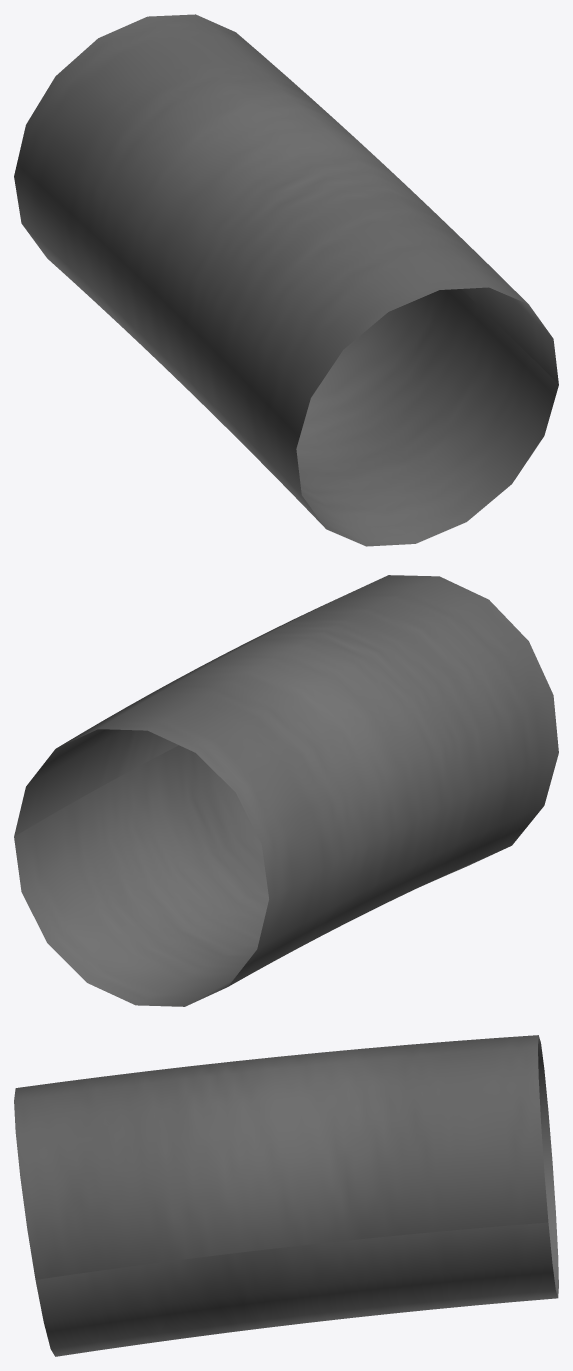
The model's file is mastarmcurve_5x1_c4.obj.
3 renders of one model, top to bottom at view 1: azimuth 30°, elevation 25°; view 2: azimuth 150°, elevation 25°; view 3: azimuth 270°, elevation 25°, orthographic. The views are drawn at different scales.
Visible parts, largest first — view 1: mastarm_5x1_c4; view 2: mastarm_5x1_c4; view 3: mastarm_5x1_c4.
Part boxes in pixels (left/top/right/bottom): mastarm_5x1_c4: left=14, top=14, right=558, bottom=546; mastarm_5x1_c4: left=14, top=575, right=558, bottom=1006; mastarm_5x1_c4: left=14, top=1035, right=558, bottom=1356.
Size of the model in its own units: 0.53 by 0.6384 by 1.06.
